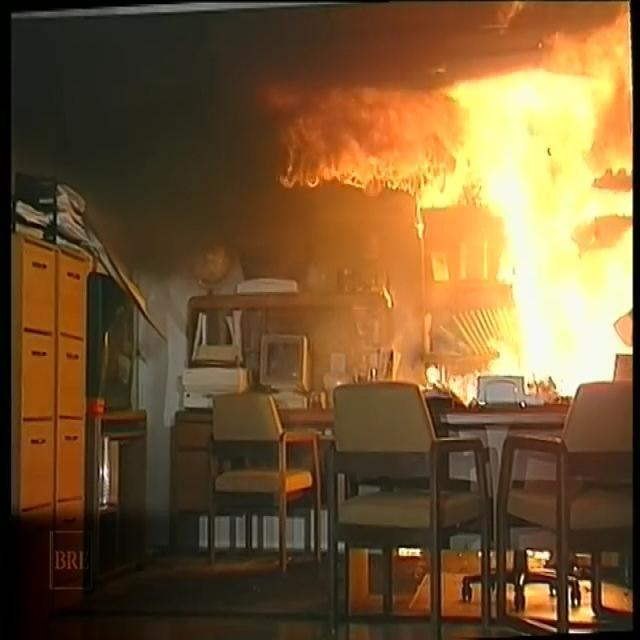Fire: (230, 0, 640, 407)
